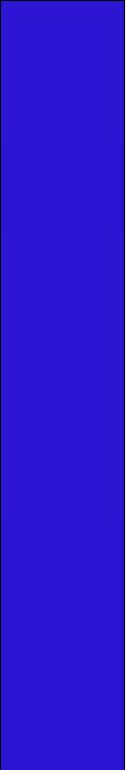safe: (5, 9, 120, 760)
